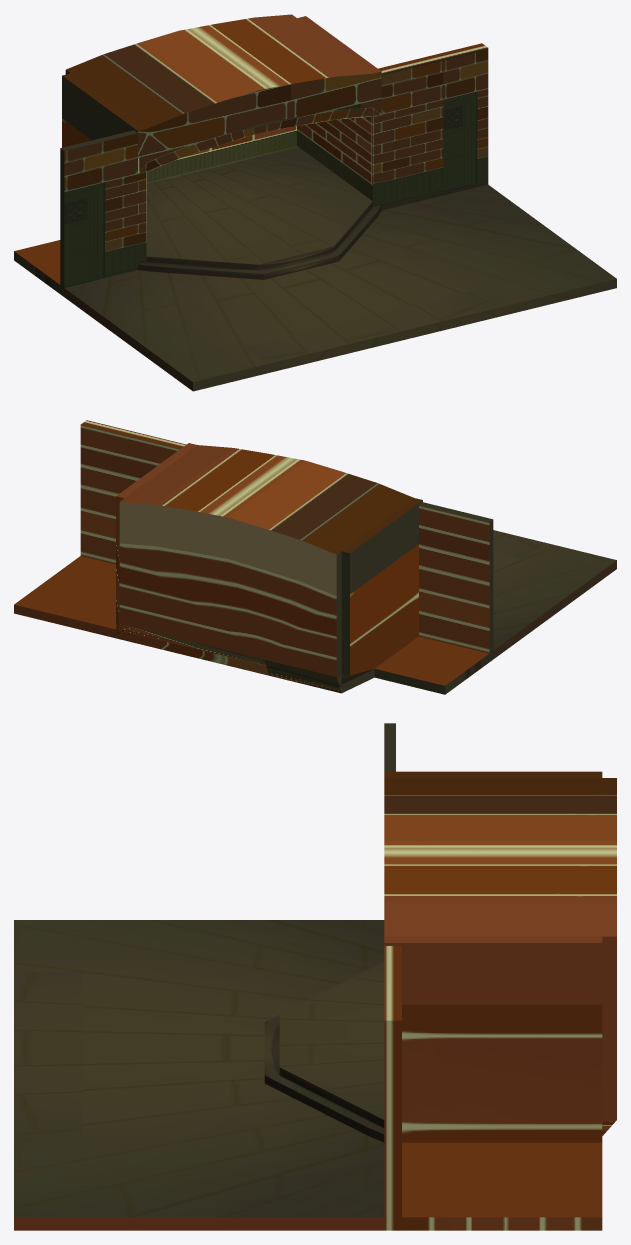
Rendered from StageMesh.fbx.
3 renders of one model, top to bottom at view 1: azimuth 30°, elevation 25°; view 2: azimuth 150°, elevation 25°; view 3: azimuth 270°, elevation 25°, orthographic. The views are drawn at different scales.
Visible parts, largest first — view 1: Cube; view 2: Cube; view 3: Cube.
Part boxes in pixels (bbox=[...]): Cube: bbox=[14, 14, 616, 391]; Cube: bbox=[14, 420, 616, 694]; Cube: bbox=[14, 723, 616, 1230].
Size of the model in its own units: 1916 by 1642 by 689.
1 material, 1 textured.
